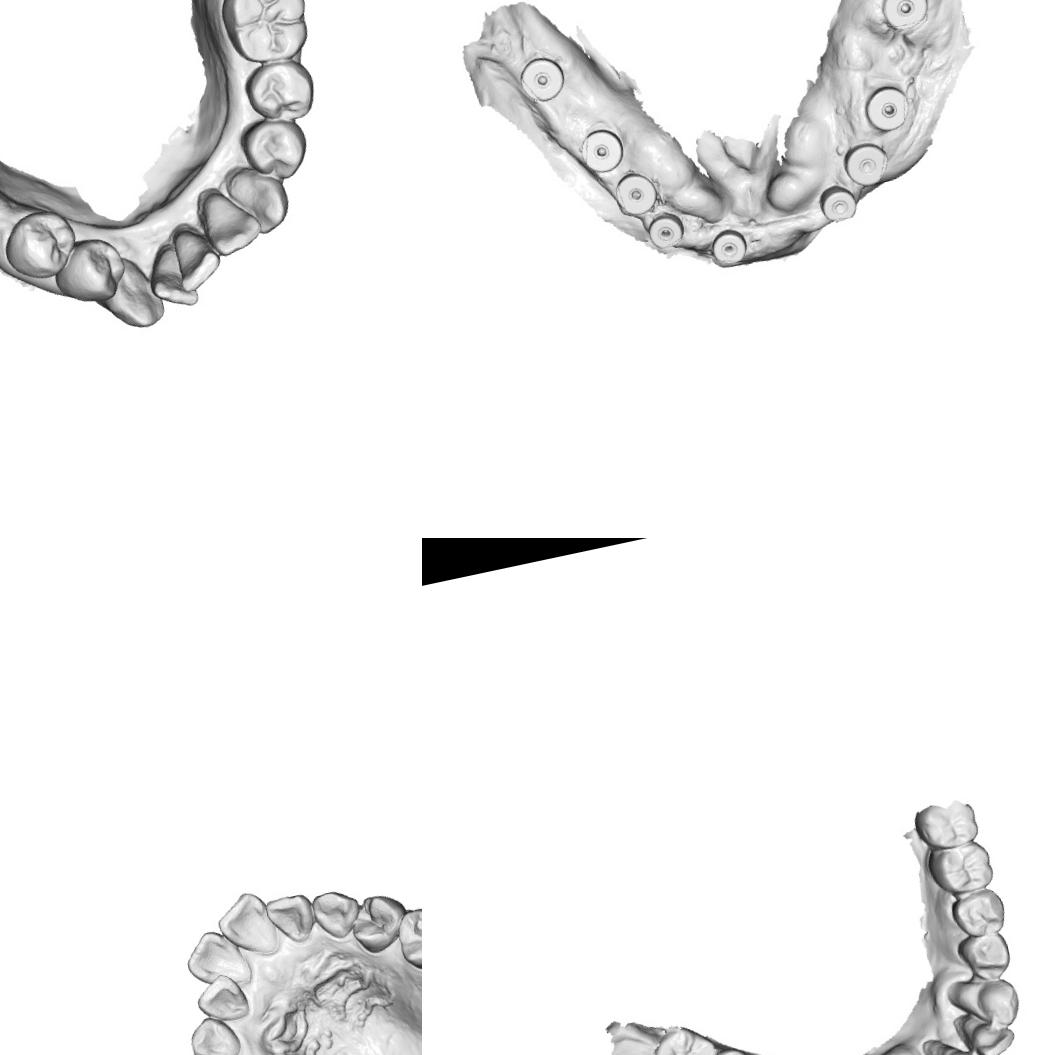canine: (94, 252, 168, 339), (222, 158, 297, 241), (944, 967, 1024, 1036), (308, 881, 367, 945), (183, 1011, 244, 1055)
implant: (516, 50, 570, 106), (861, 81, 915, 135), (840, 136, 892, 191), (576, 124, 628, 176), (609, 168, 660, 219), (814, 182, 858, 228), (643, 209, 687, 254), (706, 225, 752, 268), (878, 0, 932, 35)
incisor: (193, 179, 264, 262), (210, 886, 282, 965), (180, 923, 255, 998), (142, 238, 202, 313), (168, 224, 226, 295), (190, 969, 252, 1029), (262, 890, 322, 949), (963, 1014, 1020, 1055), (942, 1041, 1005, 1055)
molar: (214, 0, 318, 71), (924, 835, 999, 902), (910, 792, 981, 854), (642, 1017, 727, 1055)
premolar: (0, 202, 83, 288), (240, 53, 322, 130), (47, 232, 127, 310), (237, 111, 314, 187), (343, 888, 414, 958), (947, 883, 1010, 941), (954, 927, 1015, 985), (391, 901, 422, 974)
